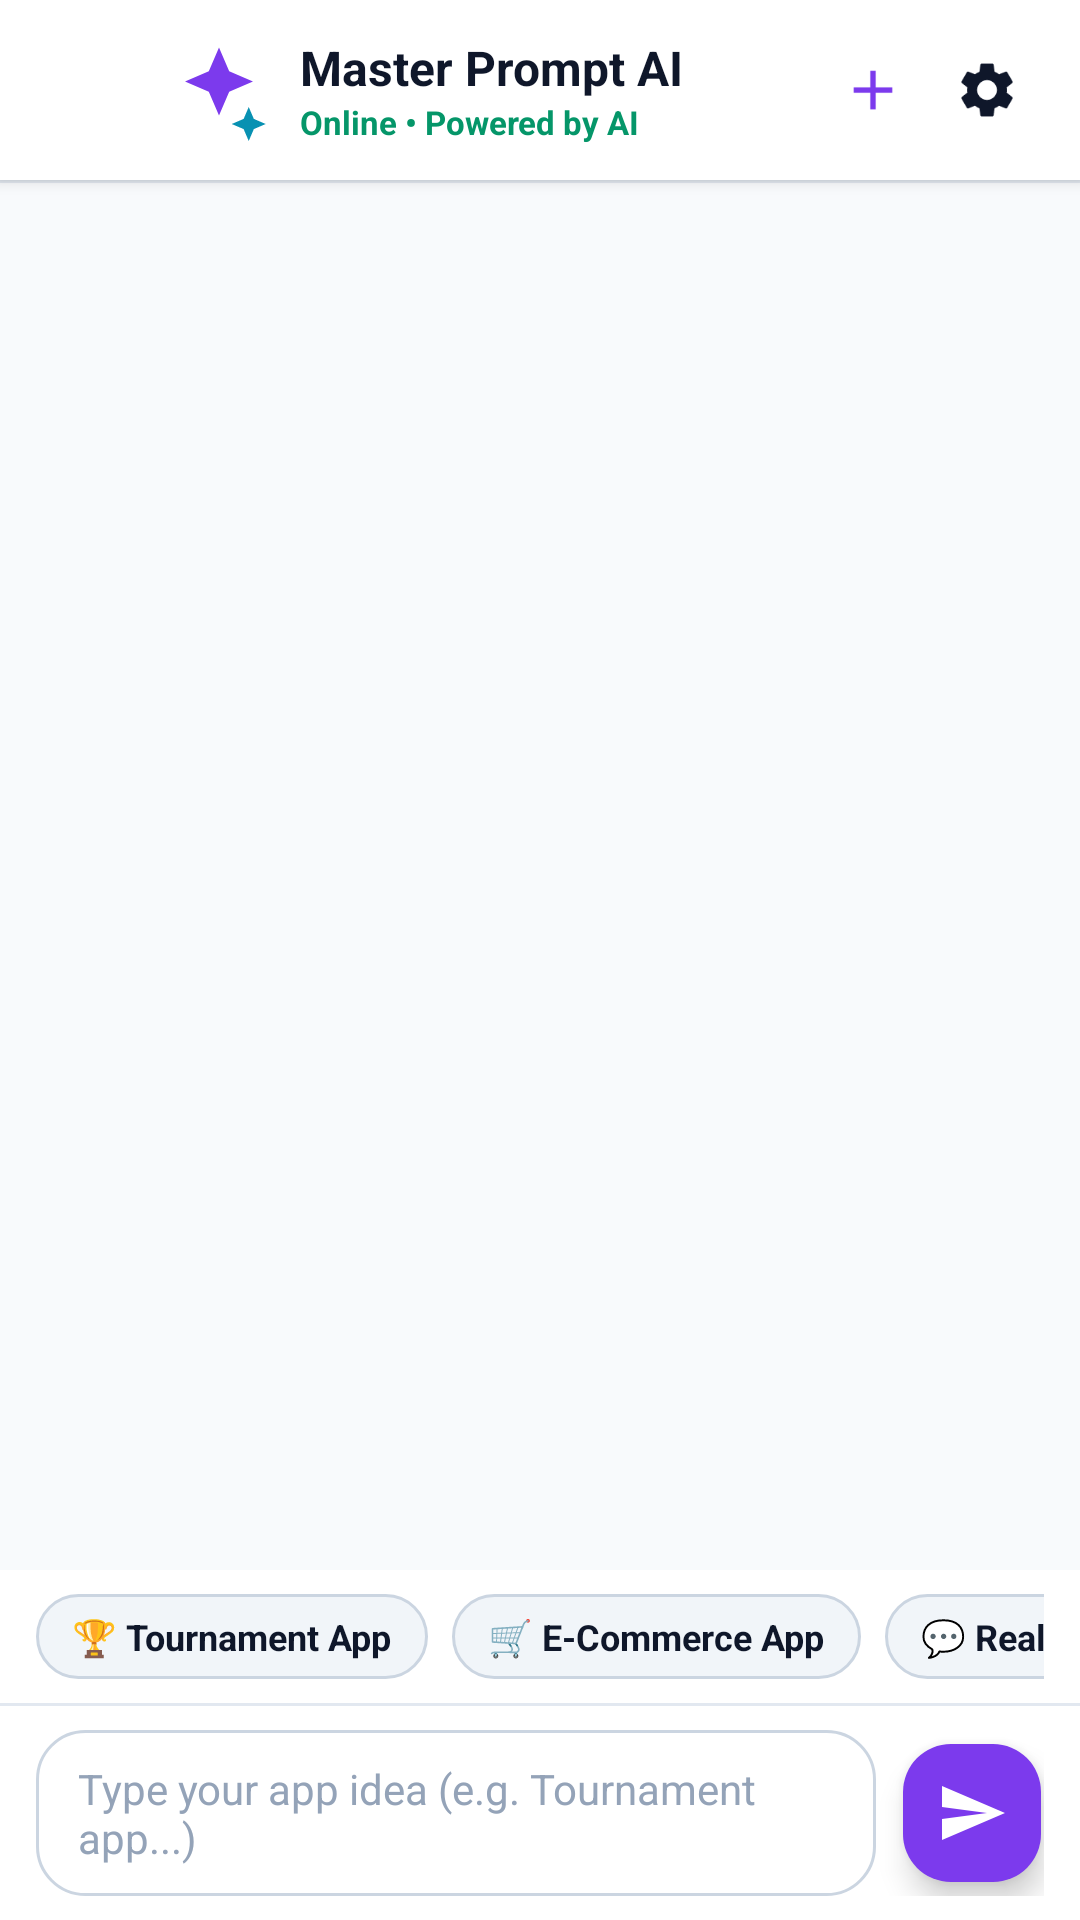

Locate icon controls on the screen. Image size 1080x1920, boxes as {"left": x1, "top": y1, "right": x2, "bottom": y2}.
add: {"left": 853, "top": 70, "right": 893, "bottom": 110}
send: {"left": 903, "top": 1744, "right": 1044, "bottom": 1885}
settings: {"left": 961, "top": 63, "right": 1013, "bottom": 117}
sparkle: {"left": 185, "top": 48, "right": 266, "bottom": 141}
